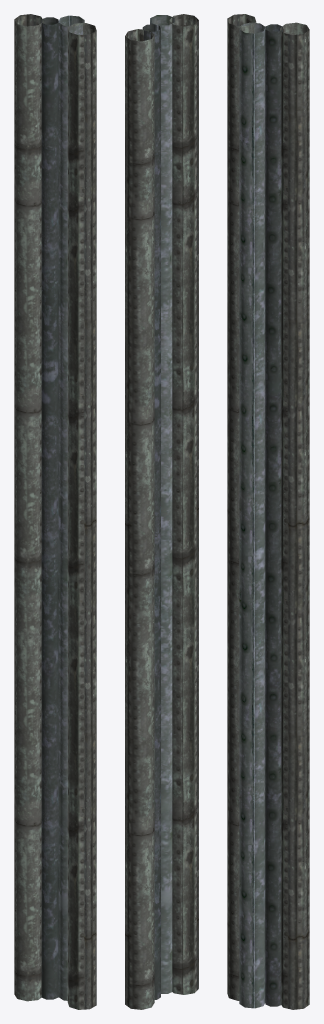
File: pipeGroup.fbx
3 views of the same model, side by side, from view 1: azimuth 90°, elevation 25°; view 2: azimuth 150°, elevation 25°; view 3: azimuth 270°, elevation 25° (orthographic).
Parts seen in each view (by area): view 1: PipeGroup; view 2: PipeGroup; view 3: PipeGroup.
Boxes of the visible parts, x1=… form: PipeGroup: x1=14, y1=14, x2=96, y2=1009; PipeGroup: x1=125, y1=14, x2=198, y2=1009; PipeGroup: x1=227, y1=14, x2=309, y2=1009.
Size of the model in its own units: 18.64 by 400 by 30.66.
Materials: 1 (1 with a texture image).
